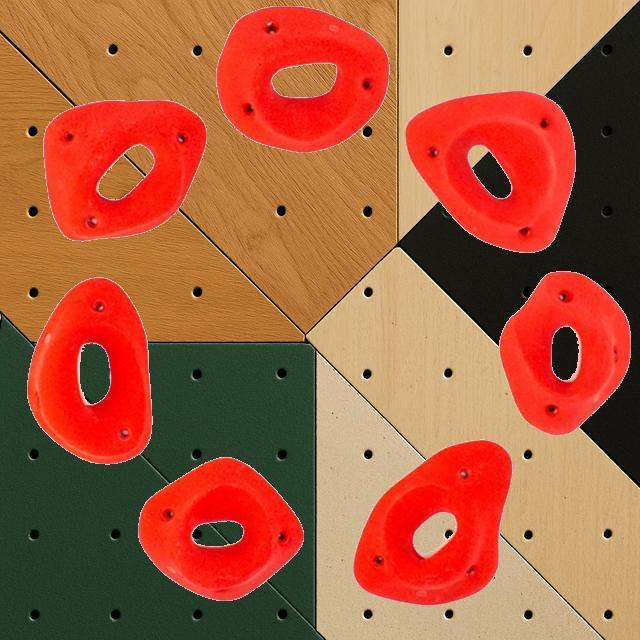Pocket: (404, 89, 576, 253), (352, 438, 512, 606), (215, 5, 389, 153), (138, 456, 304, 600), (27, 276, 152, 464), (42, 97, 206, 240), (499, 270, 631, 434), (410, 509, 458, 558), (191, 519, 245, 549)
